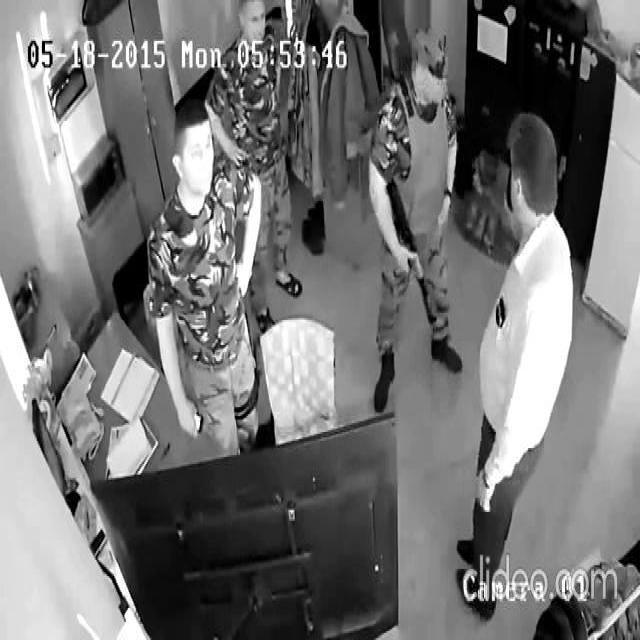pistol: (382, 172, 438, 326)
